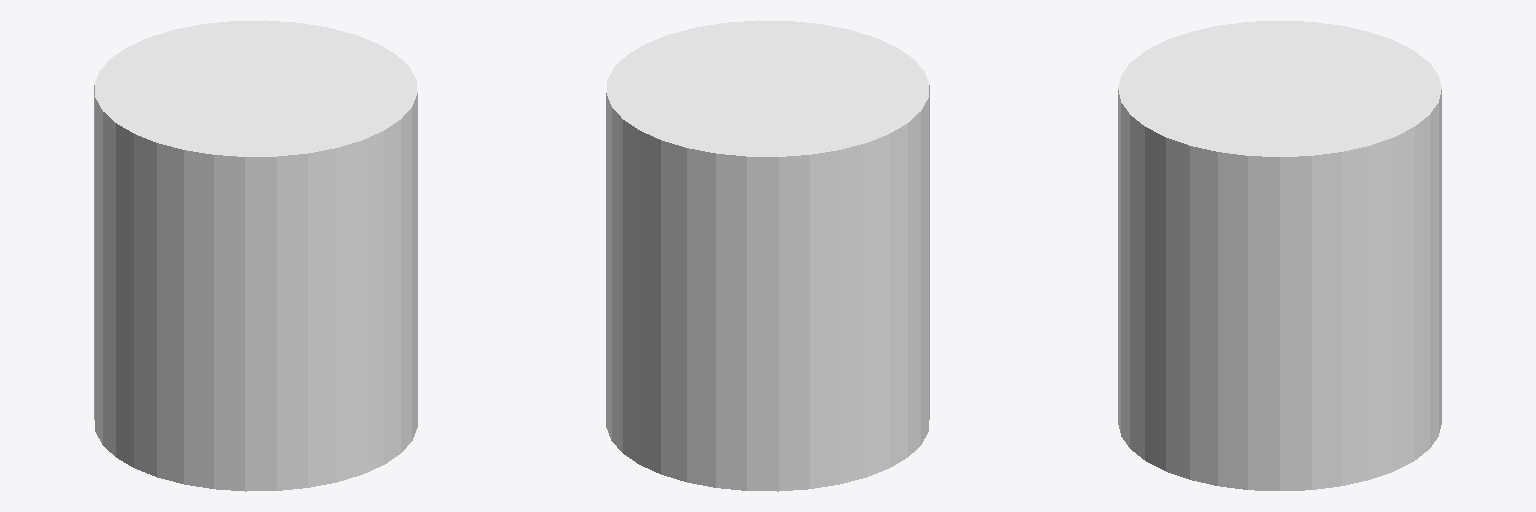
The robot description file, URDF, robot "geom_cylinder":
<?xml version='1.0' encoding='UTF-8'?>
<robot name="geom_cylinder">
  <link name="base">
    <inertial>
      <origin xyz="0.0 0.0 0.0" rpy="0.0 -0.0 0.0"/>
      <mass value="1.0"/>
      <inertia ixx="1.0" ixy="0.0" ixz="0.0" iyy="1.0" iyz="0.0" izz="1.0"/>
    </inertial>
    <visual>
      <geometry>
        <cylinder radius="0.5084272027015686" length="1.1587333679199219"/>
      </geometry>
      <material name="color[1.0, 1.0, 1.0, 1.0]"/>
      <origin xyz="0.0 0.0 0.0" rpy="0.0 0.0 0.0"/>
    </visual>
    <collision>
      <geometry>
        <cylinder radius="0.5084272027015686" length="1.1587333679199219"/>
      </geometry>
      <origin xyz="0.0 0.0 0.0" rpy="0.0 0.0 0.0"/>
    </collision>
  </link>
  <material name="color[1.0, 1.0, 1.0, 1.0]">
    <color rgba="1. 1. 1. 1."/>
  </material>
</robot>

--- What the picture shows (computed from the rendered views, not written in the file) ---
3 views of the same robot in one strip: view 1: azimuth 30°, elevation 25°; view 2: azimuth 150°, elevation 25°; view 3: azimuth 270°, elevation 25° (orthographic).
Robot: geom_cylinder — 1 links, 0 joints (none); root link base; default pose: every joint at zero.
Visible links, largest first — view 1: base; view 2: base; view 3: base.
Link boxes in pixels (<box>): base: <box>94,20,417,491</box>; base: <box>606,20,929,491</box>; base: <box>1118,21,1441,490</box>.
Size in the robot's own frame: 1.02 by 1.02 by 1.16 metres.
Geometry: primitives only (box / cylinder / sphere), no mesh files.
